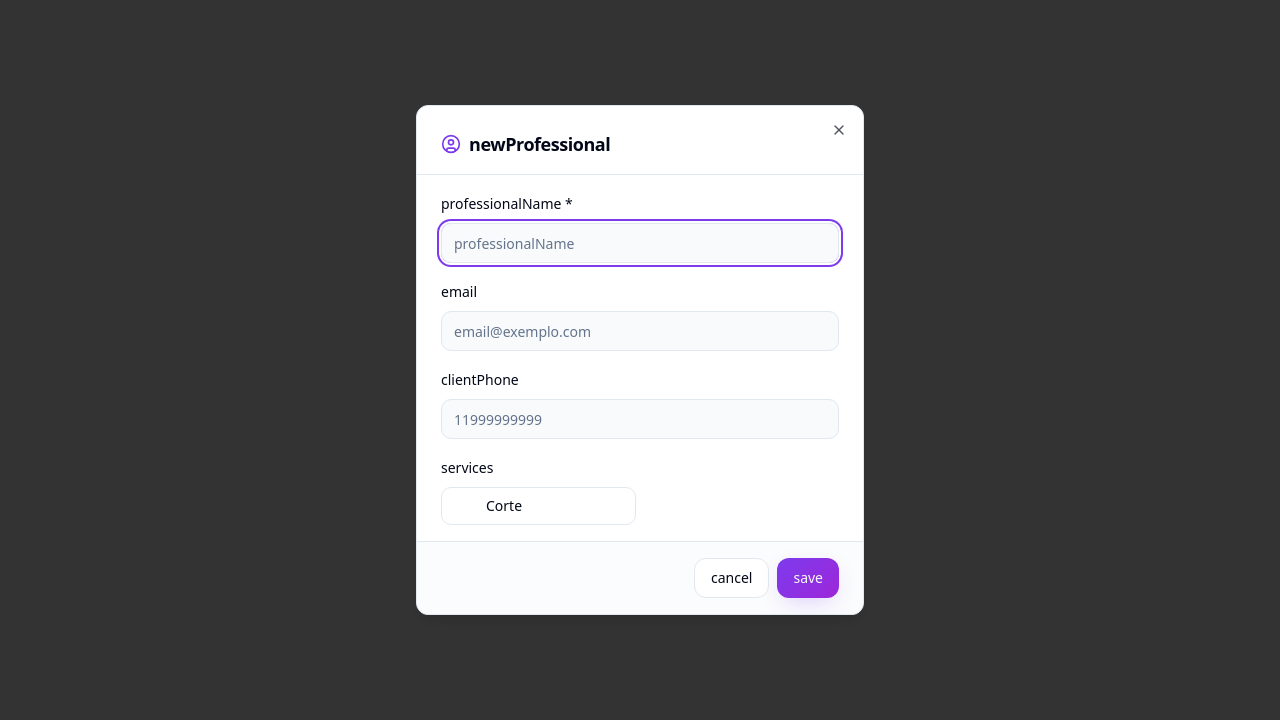
Test: ProfessionalFormDialog › clears field error when user types in that field
Click the button "save" at (808, 578), box [777, 558, 839, 598]
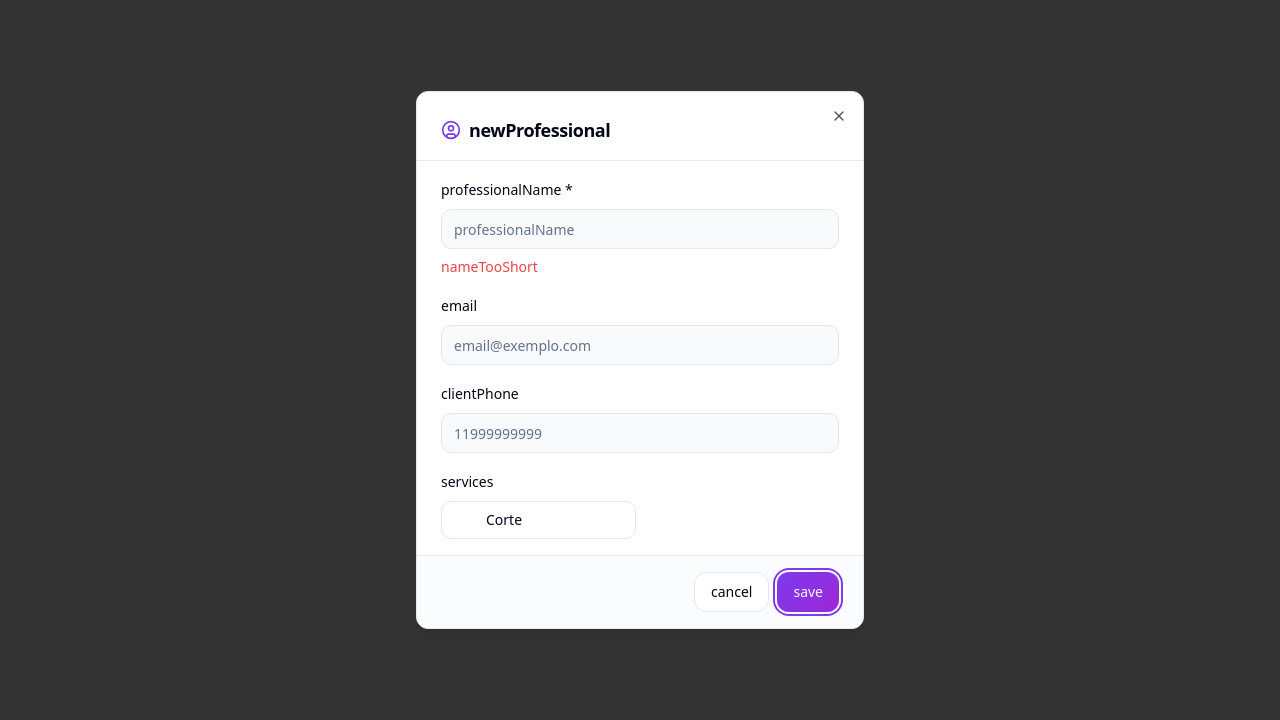
Check: the text "nameTooShort" is shown, box [441, 257, 538, 276]
Type "Joao" into the field labelled "professionalName *" at (640, 229), box [441, 209, 839, 249]
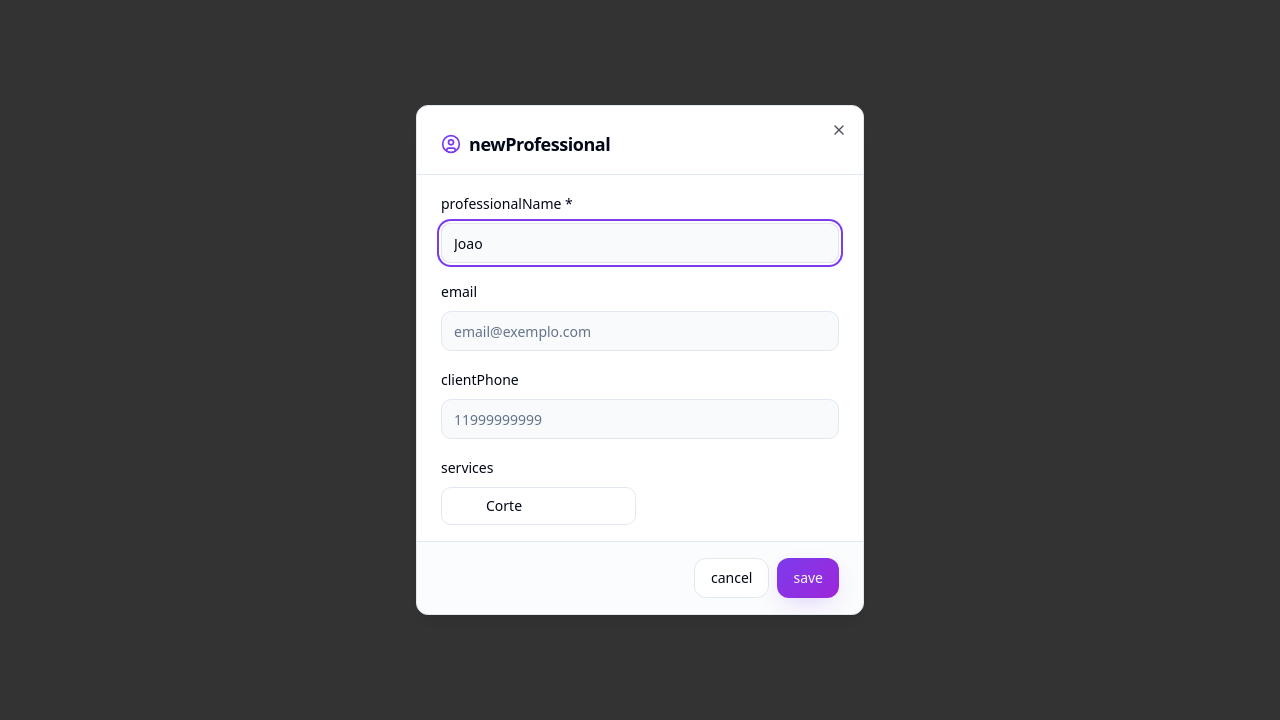
Check: the text "nameTooShort" is gone
